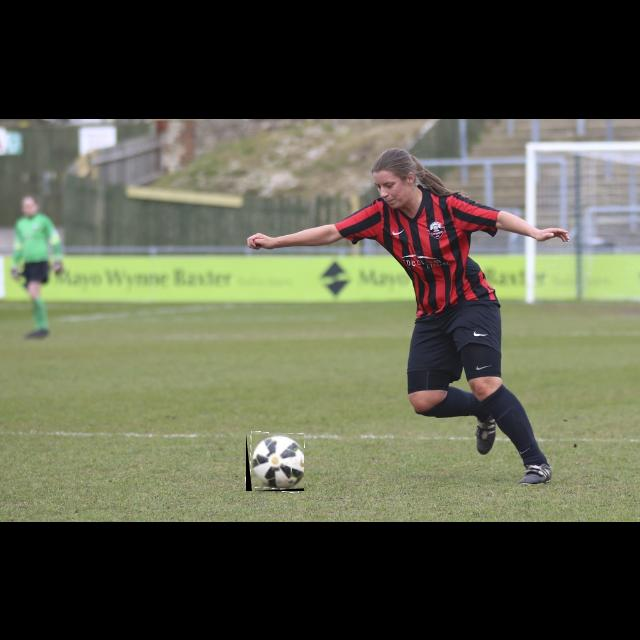Football: (246, 433, 304, 491)
